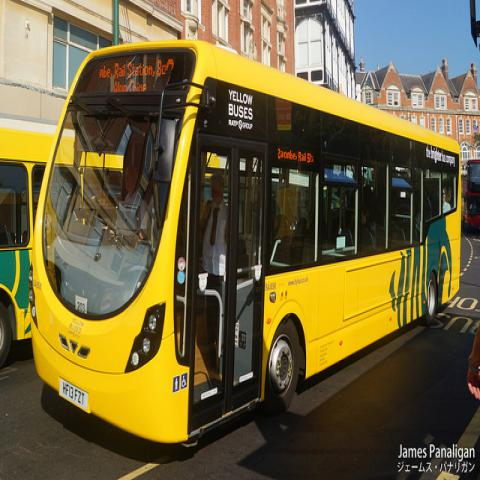bus: (30, 39, 464, 449), (2, 114, 52, 369), (460, 158, 479, 238)
